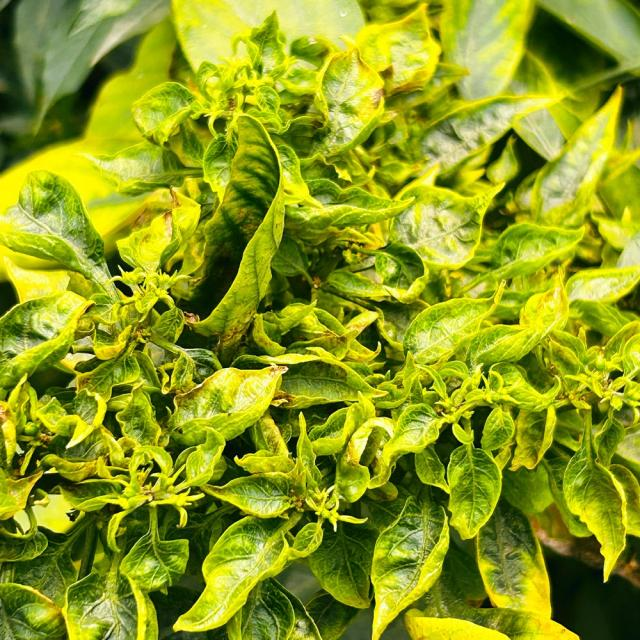Chilli_Leaf_Curl: (1, 1, 638, 638), (175, 112, 287, 356), (167, 362, 288, 446)
